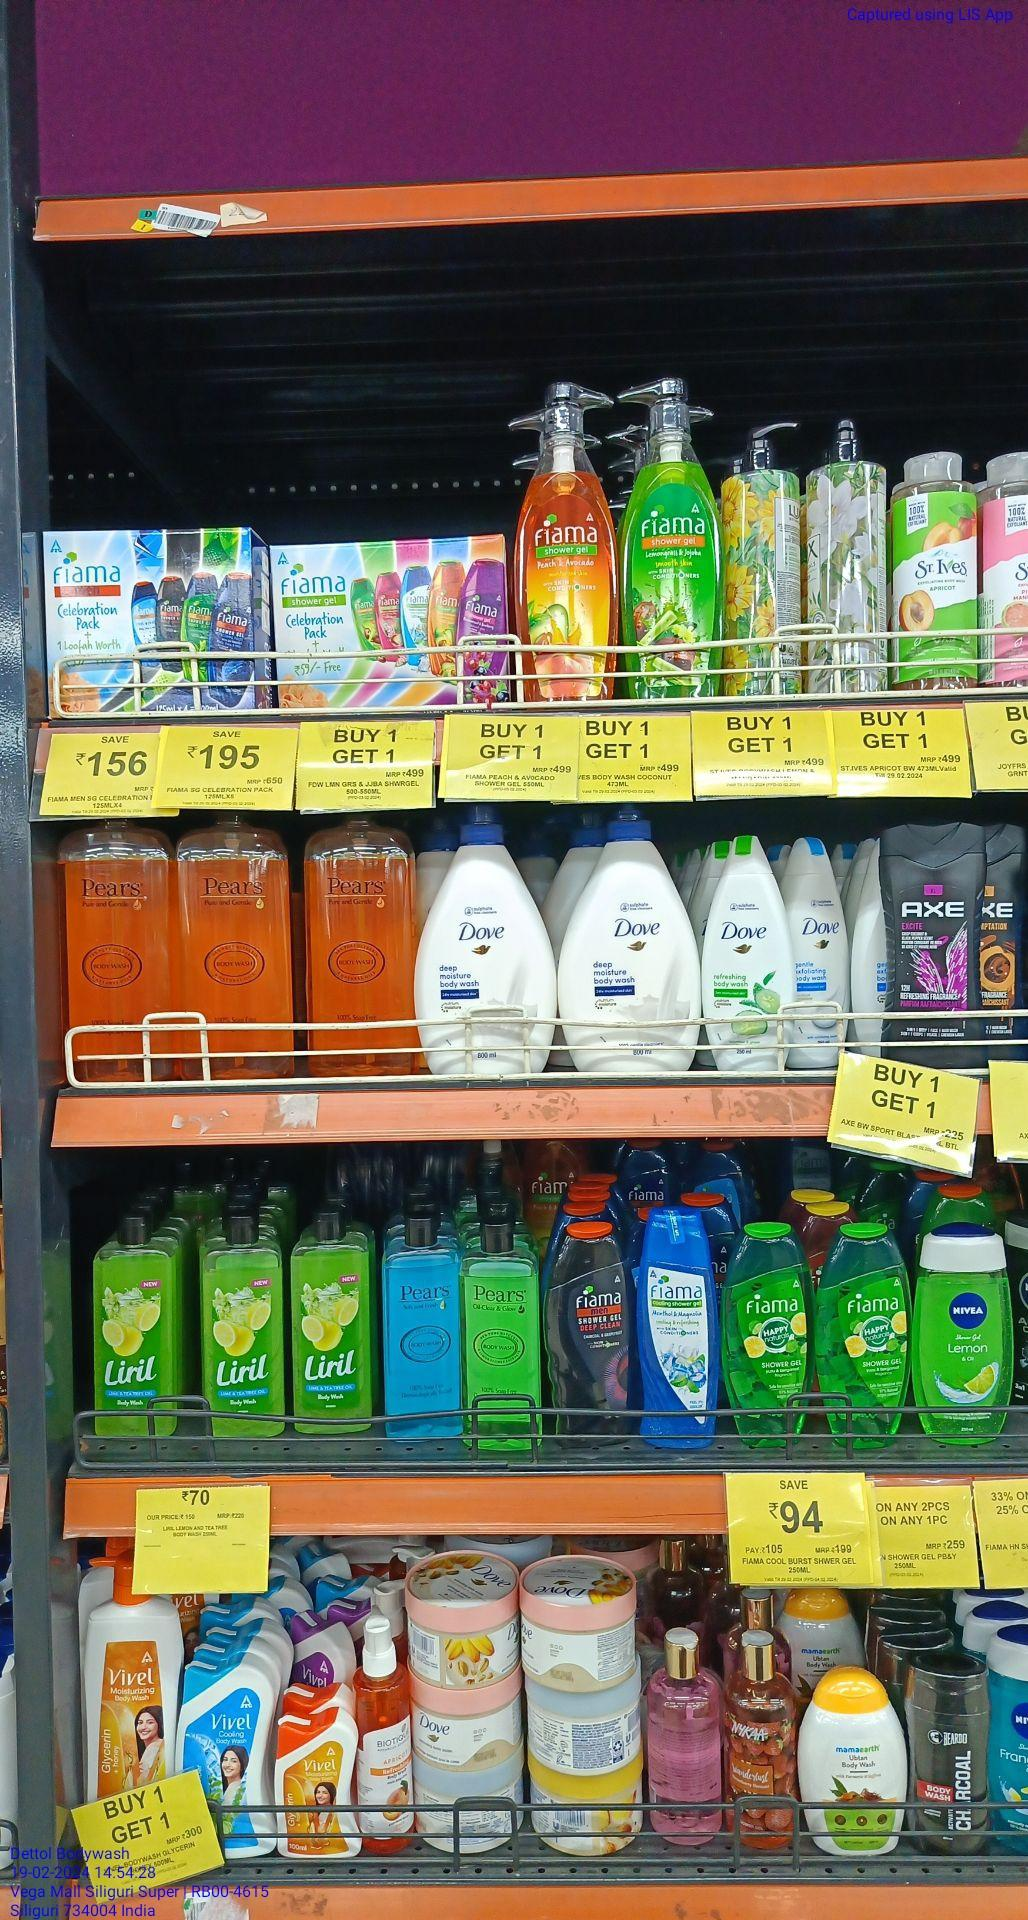Dove_Gentle_Exfoliating_Body_Wash_250ML: (791, 838, 853, 1068)
Dove_Refreshing_Body_Wash_250ML: (699, 838, 788, 1078)
Liril_Lime_and_Tea_Tree_Oil_Body_Wash_250ML: (294, 1215, 377, 1439), (203, 1213, 283, 1439), (95, 1213, 174, 1439)
Nivea_Shower_Gel_Lemon_and_Oil_250ML: (915, 1233, 1020, 1443)
Pears_Naturale_Aloe_Vera_Body_Wash_250ML: (463, 1211, 546, 1457)
Pears_Pure_Glycerin_and_Mint_Extracts_Body_Wash_250ML: (379, 1215, 462, 1443)
